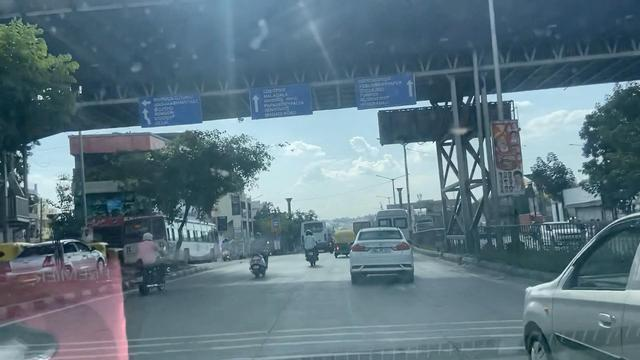LMV: (348, 227, 420, 272), (135, 228, 164, 302), (248, 226, 271, 278), (296, 227, 320, 262)
SpeedBump: (139, 327, 484, 360)
